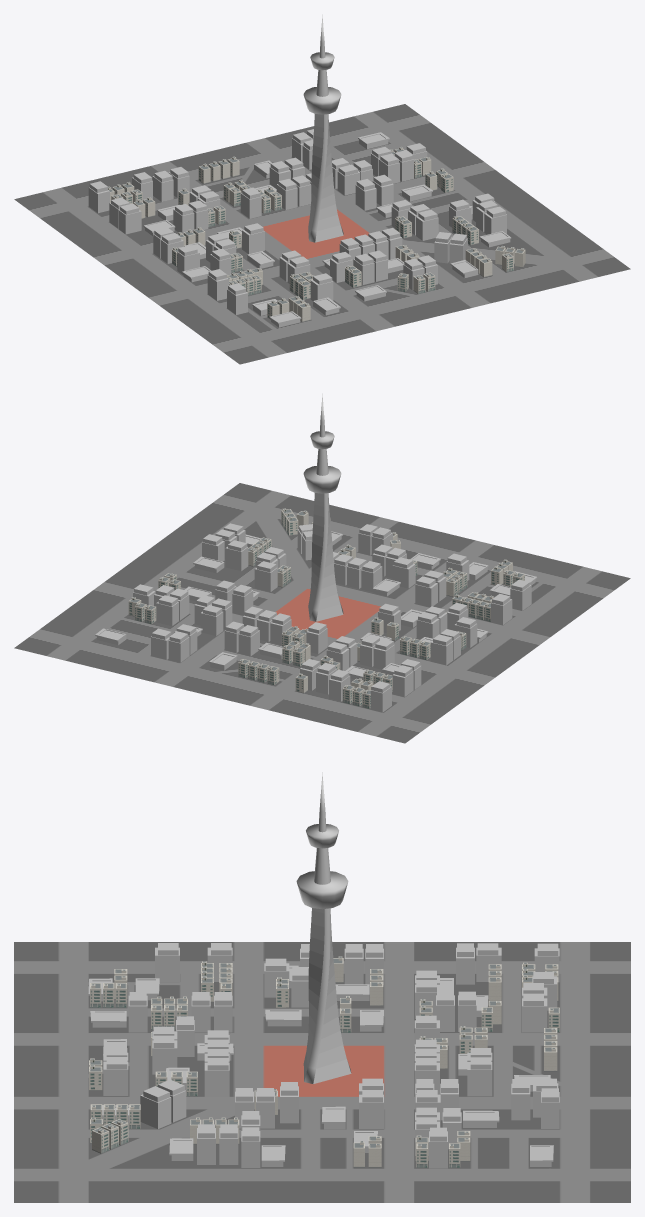
The model's file is map.fbx.
3 views of the same model, one above another, from view 1: azimuth 30°, elevation 25°; view 2: azimuth 150°, elevation 25°; view 3: azimuth 270°, elevation 25° (orthographic). The views are drawn at different scales.
Parts seen in each view (by area): view 1: Plane, Cylinder, buil2.020, buil2.004, buil2.005, buil2.001, buil2.056, buil2.024, buil2.038, buil2.032, buil2.055, buil2.036 (+9 smaller); view 2: Plane, Cylinder, buil2.018, buil2, buil2.017, buil2.040, buil2.034, buil2.052, buil2.015, buil2.003, buil2.045, buil2.048 (+11 smaller); view 3: Plane, Cylinder, buil2.028, buil2.046, buil2.010, buil2.031, buil2.054, buil2.037, buil2.032, buil2.013, buil2.047, buil2.033 (+25 smaller).
Boxes of the visible parts, box(x1,y1,x2,y2) form: Plane: box(14, 104, 630, 364); Cylinder: box(303, 14, 343, 242); buil2.020: box(416, 209, 438, 240); buil2.004: box(119, 203, 141, 234); buil2.005: box(242, 223, 264, 254); buil2.001: box(355, 179, 376, 210); buil2.056: box(88, 181, 109, 213); buil2.024: box(240, 187, 261, 218); buil2.038: box(337, 164, 360, 195); buil2.032: box(227, 283, 247, 314); buil2.055: box(152, 170, 173, 201); buil2.036: box(207, 269, 228, 300); Plane: box(14, 483, 630, 743); Cylinder: box(303, 393, 343, 621); buil2.018: box(254, 561, 277, 591); buil2: box(430, 634, 453, 665); buil2.017: box(225, 540, 248, 571); buil2.040: box(200, 605, 223, 635); buil2.034: box(415, 576, 437, 607); buil2.052: box(156, 595, 178, 625); buil2.015: box(392, 557, 415, 588); buil2.003: box(392, 665, 413, 696); buil2.045: box(238, 625, 259, 656); buil2.048: box(168, 631, 189, 662); Plane: box(14, 942, 630, 1202); Cylinder: box(296, 772, 351, 1084); buil2.028: box(140, 1086, 171, 1128); buil2.046: box(467, 1057, 492, 1096); buil2.010: box(204, 1058, 229, 1096); buil2.031: box(103, 1057, 128, 1095); buil2.054: box(522, 993, 547, 1032); buil2.037: box(359, 1090, 383, 1128); buil2.032: box(155, 943, 179, 981); buil2.013: box(152, 1035, 177, 1074); buil2.047: box(511, 1079, 530, 1120); buil2.033: box(128, 992, 147, 1032).
Size of the model in its own units: 50000 by 26858 by 50000.
